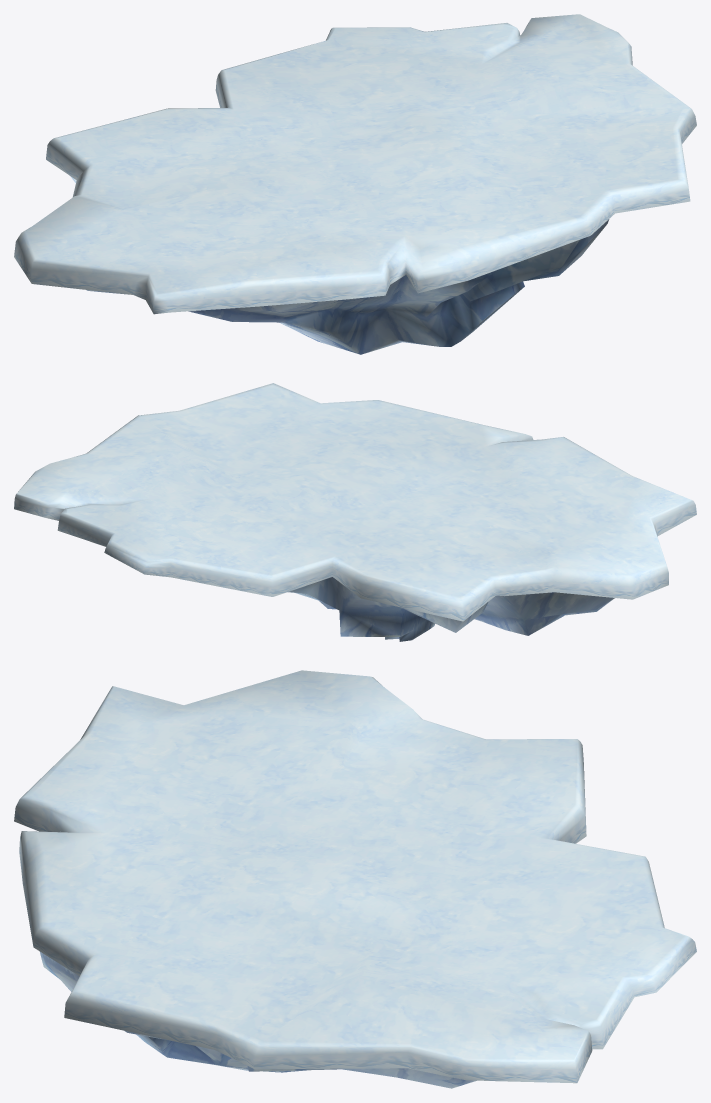
File: bel_env_plateau_06.glb
3 views of the same model, one above another, from view 1: azimuth 30°, elevation 25°; view 2: azimuth 150°, elevation 25°; view 3: azimuth 270°, elevation 25° (orthographic). The views are drawn at different scales.
Parts seen in each view (by area): view 1: bel_env_plateau_06; view 2: bel_env_plateau_06; view 3: bel_env_plateau_06.
Boxes of the visible parts, x1,y1,x2,y2 form: bel_env_plateau_06: [14, 14, 696, 354]; bel_env_plateau_06: [14, 383, 696, 641]; bel_env_plateau_06: [14, 670, 696, 1088].
Size of the model in its own units: 11.44 by 2.69 by 8.19.
Materials: 3 (3 with a texture image).
